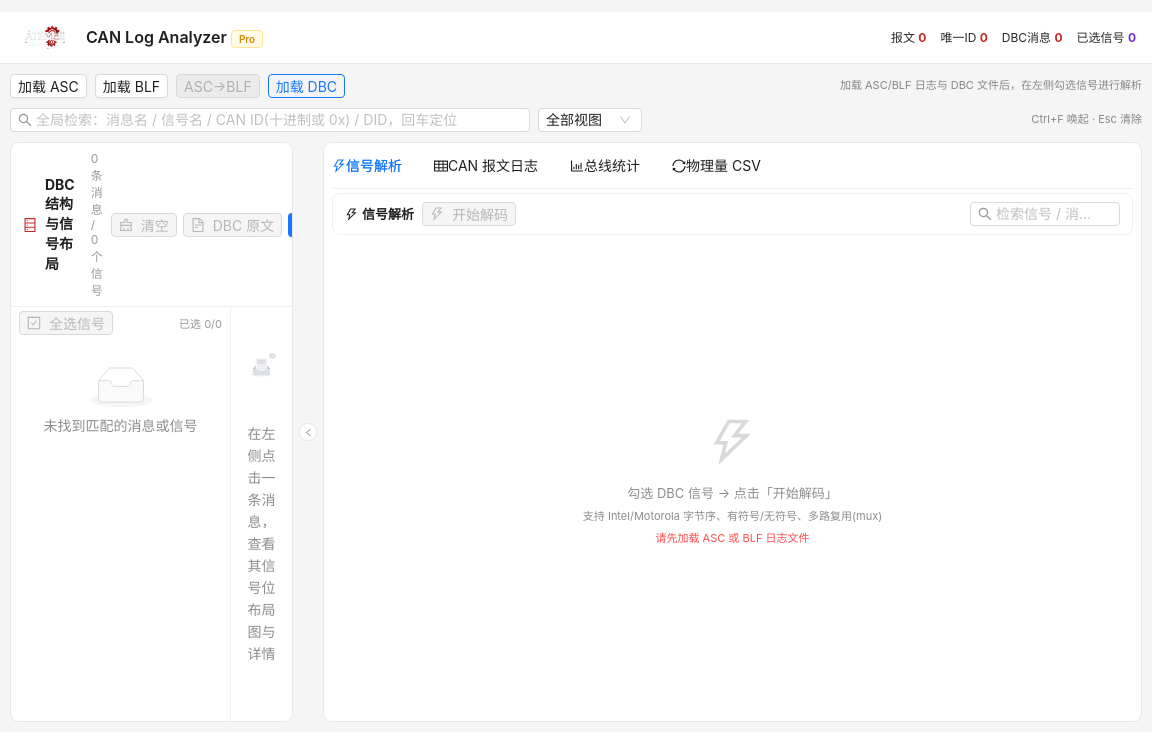
Scenario: R12 bus statistics wiring › asks the main process for statistics and renders them in the 总线统计 tab
Click the button "加载 ASC" at (48, 86), box [10,74,87,98]
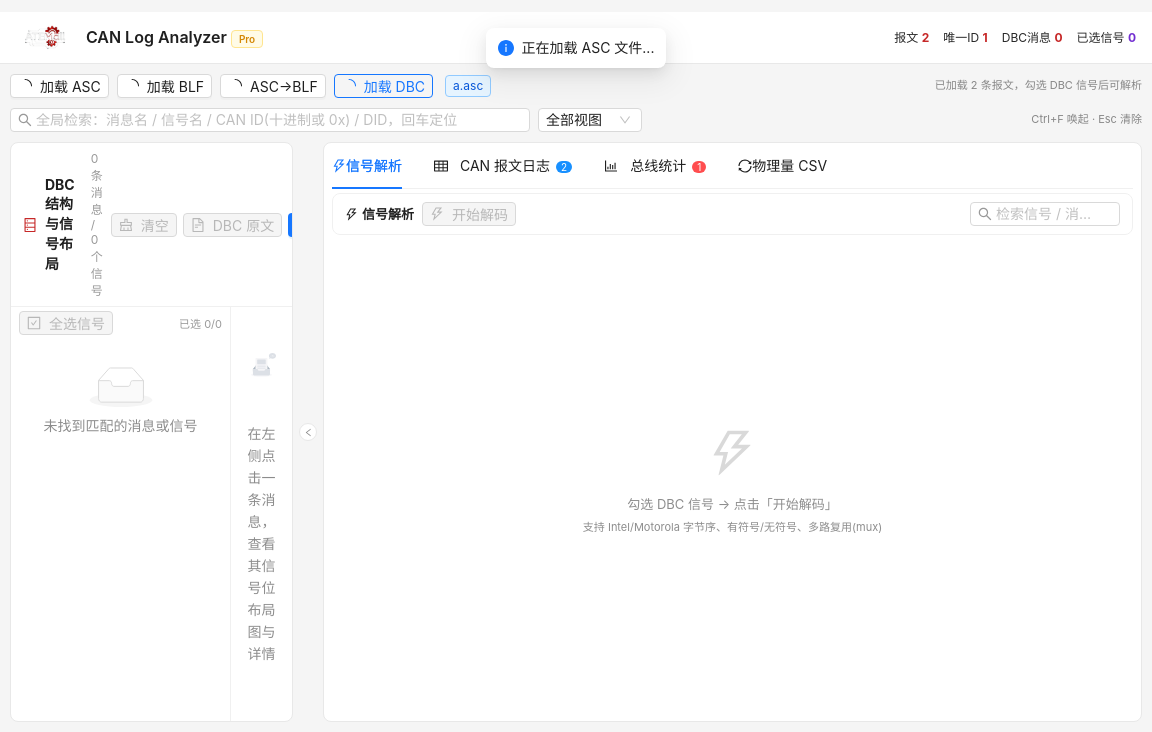
Click the tab "总线统计1" at (655, 166), box [604,155,706,177]
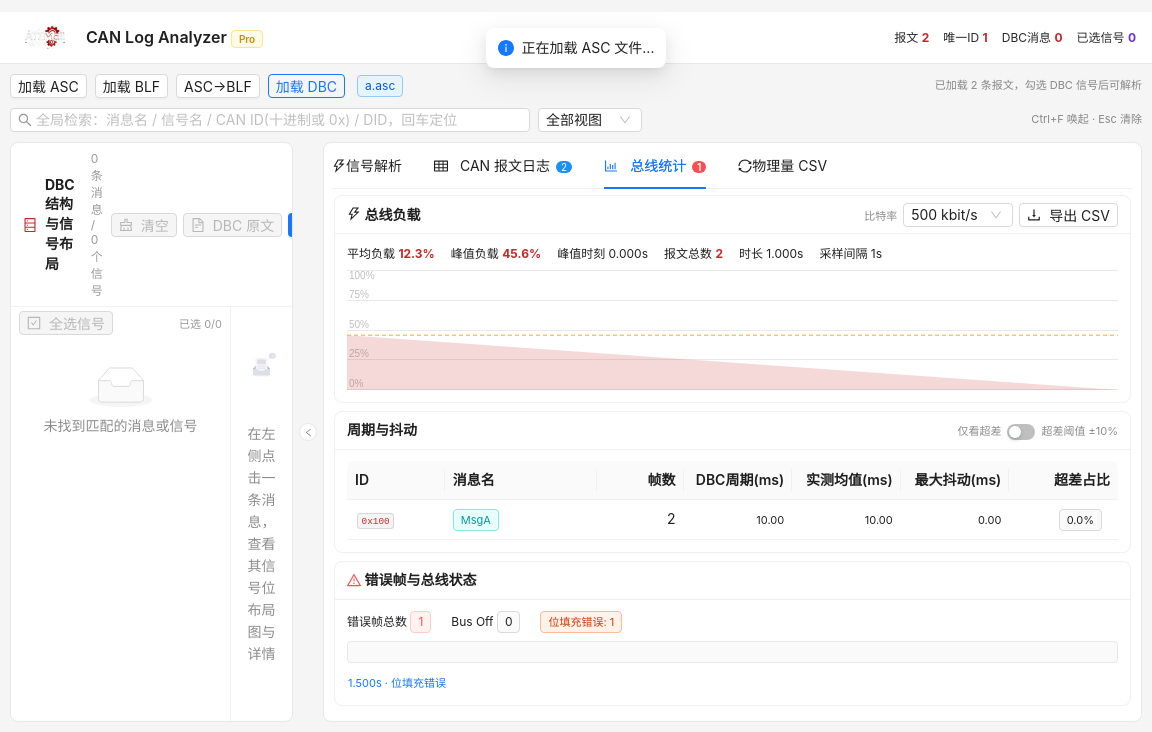
Now the text with test id "stats-load-avg" reads "12.3%", box [398,246,435,261]
Now the text with test id "stats-panel-error-total" reads "1", box [418,614,423,629]
